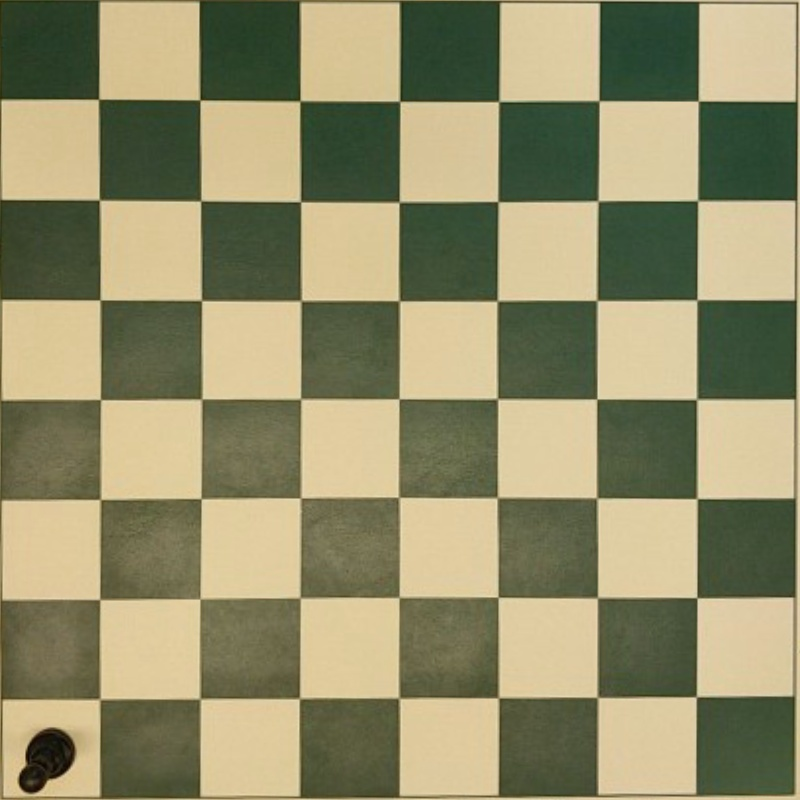black-pawn: (17, 727, 76, 794)
